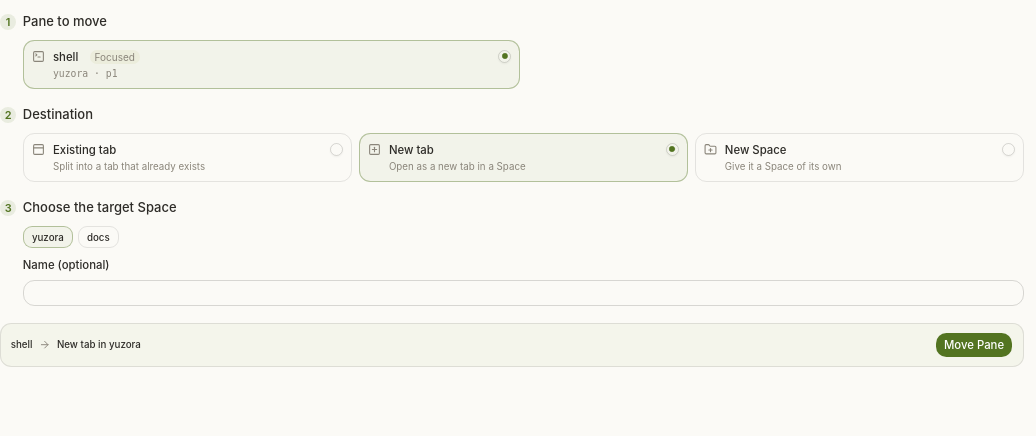
PaneTools move flow › keeps the move button disabled until an existing tab is picked
The width and height of the screenshot is (1036, 436).
Click the radio button named "Existing tab" in the row of "Existing tab". click: (336,149)
box: x1=330 y1=143 x2=343 y2=156
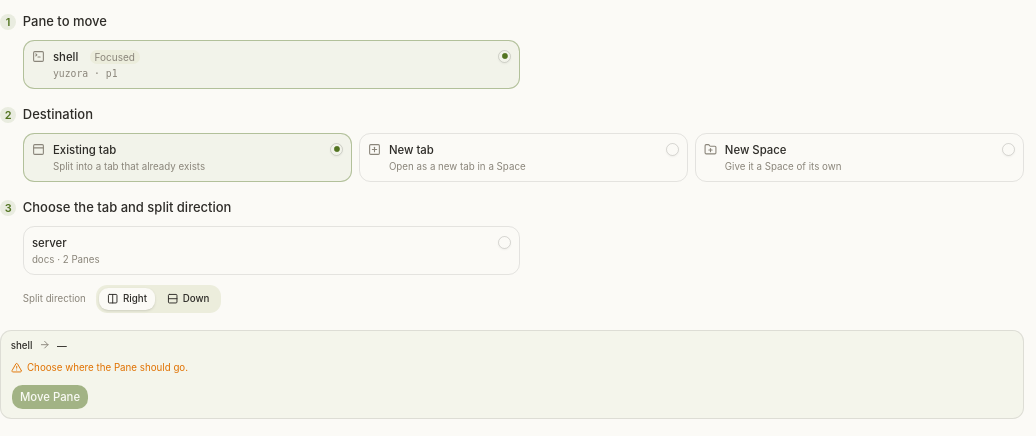
Check: the button "Move Pane" is disabled, box x1=11 y1=384 x2=89 y2=410
